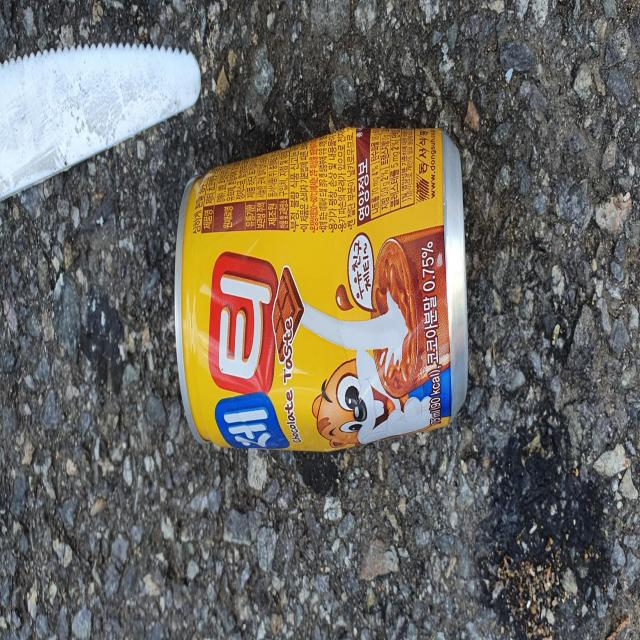can: (174, 126, 469, 450)
